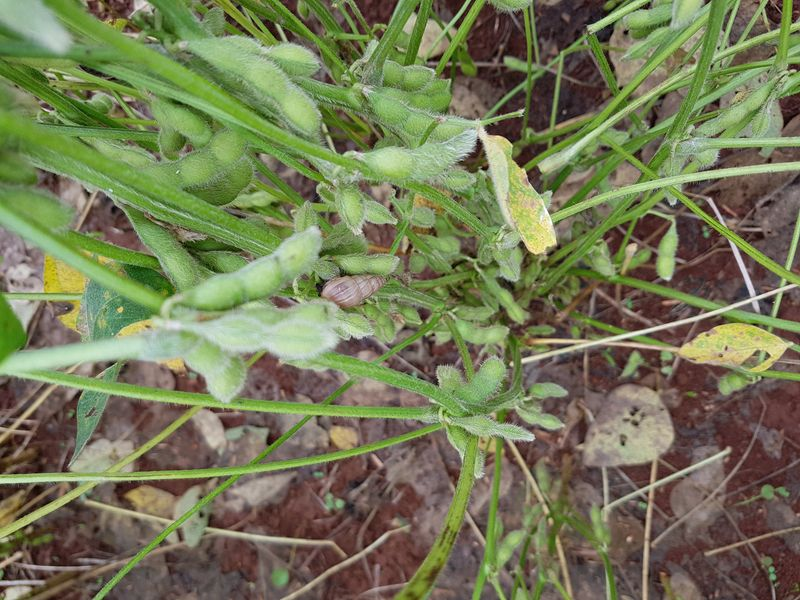Gastropoda: (316, 265, 389, 318)
